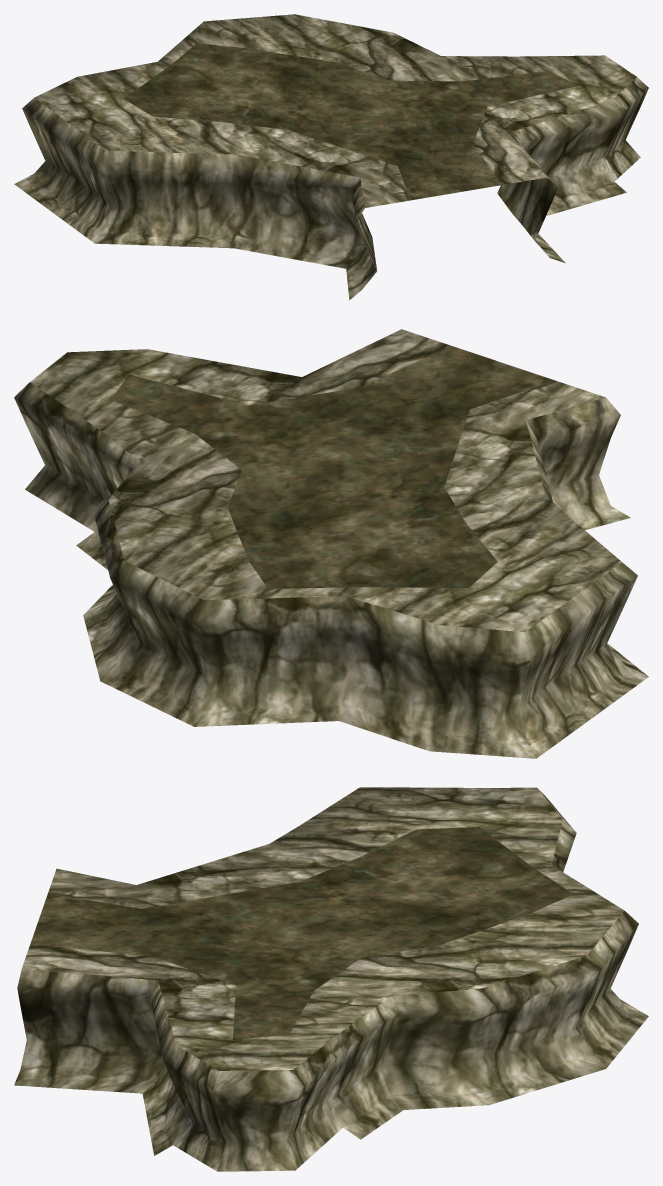
File: CB_NEWPLAYSURFACE_CB_PLAYSURFACE71.fbx
The picture shows the model from 3 angles, top to bottom: view 1: azimuth 30°, elevation 25°; view 2: azimuth 150°, elevation 25°; view 3: azimuth 270°, elevation 25°; orthographic projection. The views are drawn at different scales.
Visible parts, largest first — view 1: CB_NEWPLAYSURFACE_CB_PLAYSURFACE71; view 2: CB_NEWPLAYSURFACE_CB_PLAYSURFACE71; view 3: CB_NEWPLAYSURFACE_CB_PLAYSURFACE71.
Part boxes in pixels (box(x1,y1,x2,y2)): CB_NEWPLAYSURFACE_CB_PLAYSURFACE71: box(14, 14, 648, 300); CB_NEWPLAYSURFACE_CB_PLAYSURFACE71: box(14, 329, 648, 758); CB_NEWPLAYSURFACE_CB_PLAYSURFACE71: box(14, 787, 648, 1171).
Bounding box in the file's own units: 211521 × 35371 × 190101.
3 materials, 3 textured.
